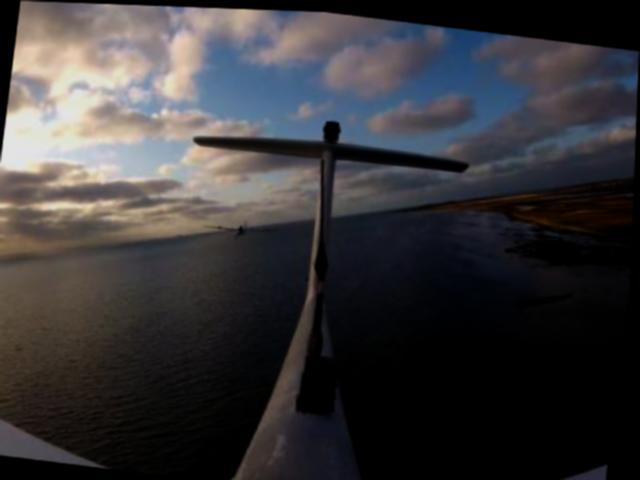uav: (205, 211, 280, 242)
